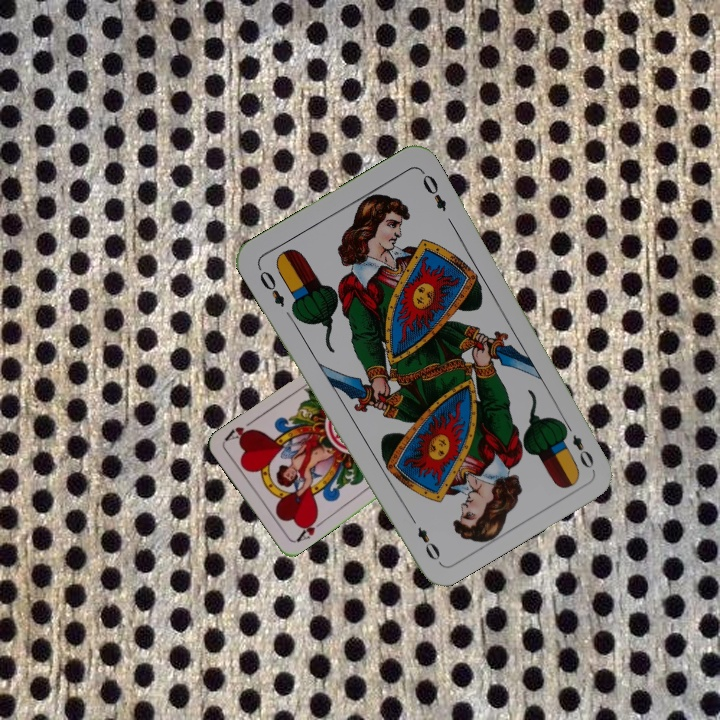EO: (559, 418, 597, 472), (254, 263, 287, 310)
HA: (290, 513, 326, 545)
